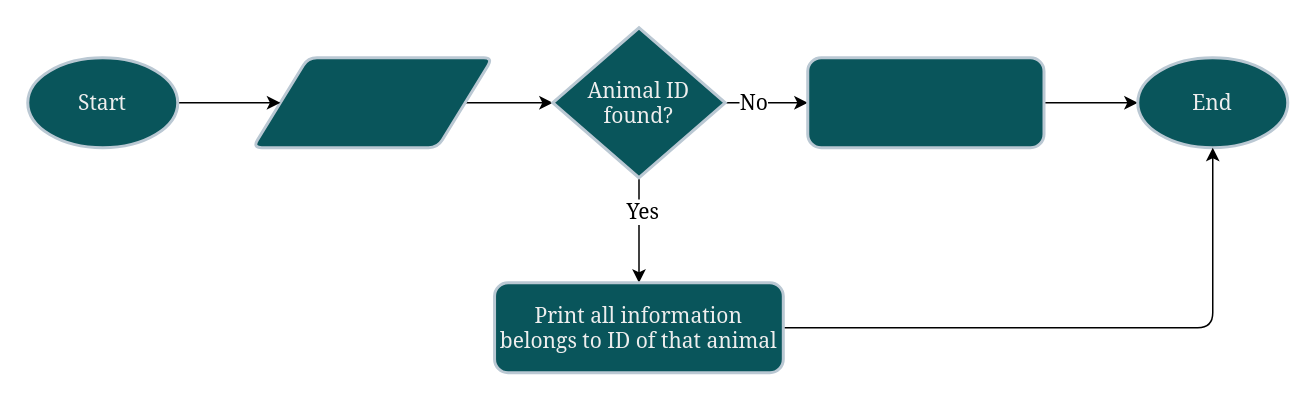
Image size: 1314x399. Some labels were removed from this diagram. The box of each missing label's shape, as (x1, y1, x2, y2) in pixels:
Input Animal ID: (250, 56, 494, 148)
Print "Animal not found": (806, 56, 1045, 148)
